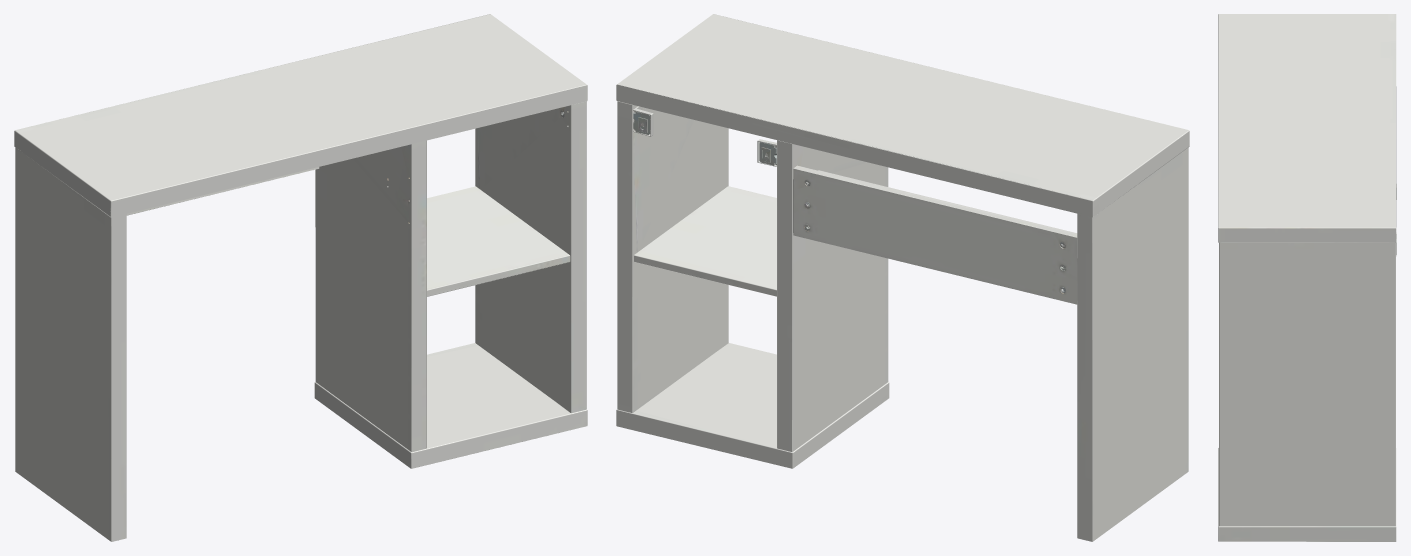
The model's file is LB-BR-DESK-01.glb.
The picture shows the model from 3 angles, left to right: view 1: azimuth 30°, elevation 25°; view 2: azimuth 150°, elevation 25°; view 3: azimuth 270°, elevation 25°; orthographic projection. The views are drawn at different scales.
Visible parts, largest first — view 1: ASY_ART_30582445_S01_NV01; view 2: ASY_ART_30582445_S01_NV01; view 3: ASY_ART_30582445_S01_NV01.
Boxes of the visible parts, <box> form: ASY_ART_30582445_S01_NV01: <box>14,14,587,541</box>; ASY_ART_30582445_S01_NV01: <box>616,14,1189,541</box>; ASY_ART_30582445_S01_NV01: <box>1218,14,1396,541</box>.
Bounding box in the file's own units: 1.11 × 0.7652 × 0.3924.
Materials: 1 (1 with a texture image).
